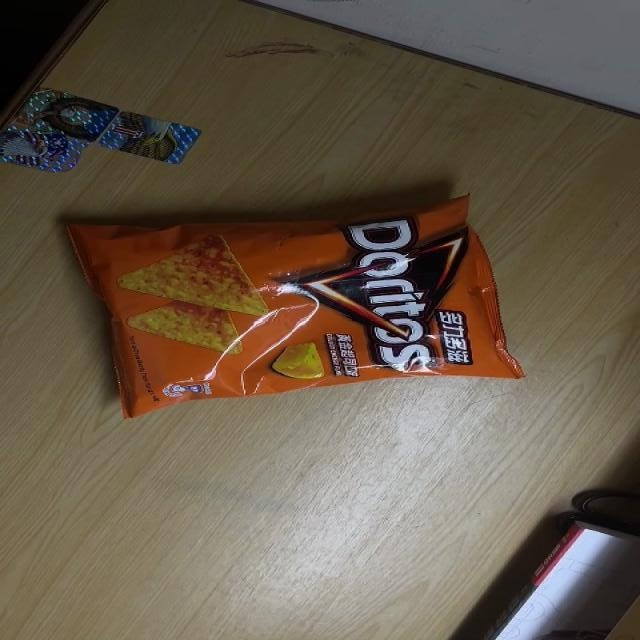Doritos: (47, 191, 526, 422)
